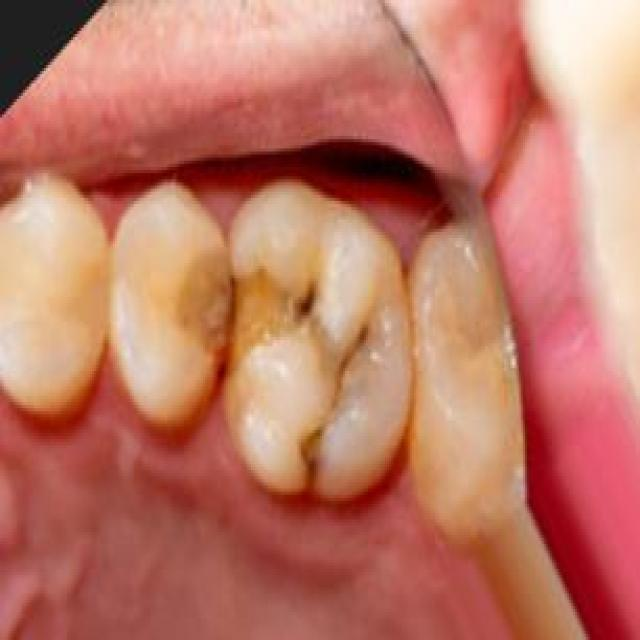caries: (222, 260, 386, 479), (157, 236, 230, 377)
